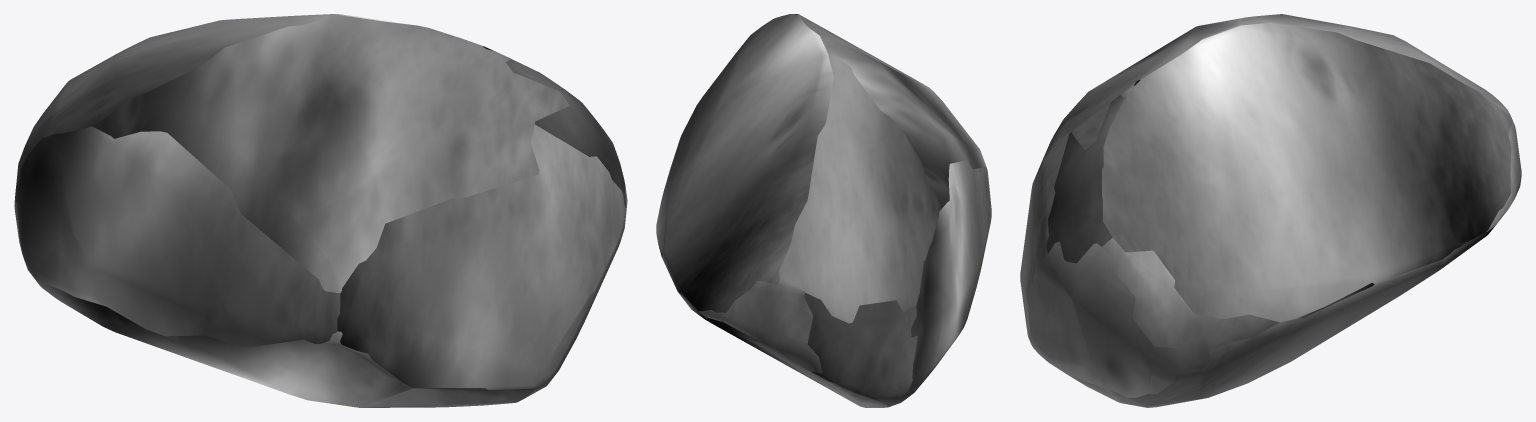
File: leda.glb
The picture shows the model from 3 angles, left to right: view 1: azimuth 30°, elevation 25°; view 2: azimuth 150°, elevation 25°; view 3: azimuth 270°, elevation 25°; orthographic projection. The views are drawn at different scales.
Parts seen in each view (by area): view 1: Leda; view 2: Leda; view 3: Leda.
Part boxes in pixels (x1,y1,x2,y2): Leda: (14,14,627,407); Leda: (656,14,991,407); Leda: (1020,14,1521,407).
Size of the model in its own units: 18 by 14.92 by 19.83.
Materials: 1 (1 with a texture image).
